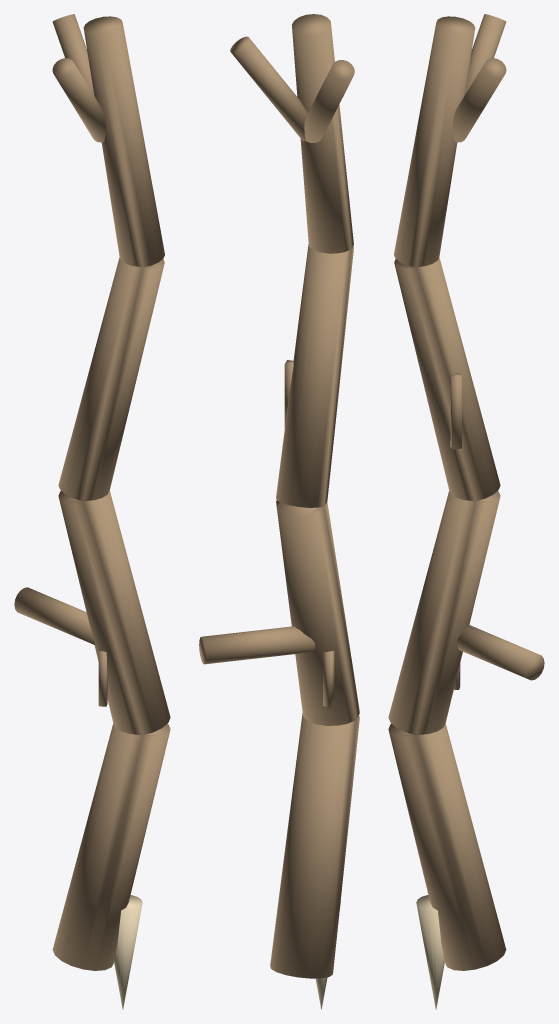
The model's file is stick_1.glb.
The picture shows the model from 3 angles, left to right: view 1: azimuth 90°, elevation 25°; view 2: azimuth 150°, elevation 25°; view 3: azimuth 270°, elevation 25°; orthographic projection.
Visible parts, largest first — view 1: Shaft, Side_Branch, Fork_B, Broken_Tip, Fork_A, Bark_Ridge_2; view 2: Shaft, Side_Branch, Fork_A, Fork_B, Bark_Ridge_2, Bark_Ridge_1; view 3: Shaft, Side_Branch, Fork_A, Broken_Tip, Fork_B, Bark_Ridge_1.
Part boxes in pixels (x1,y1,x2,y2): Shaft: (52,16,170,970); Side_Branch: (14,587,94,644); Fork_B: (52,58,106,142); Broken_Tip: (114,895,142,1009); Fork_A: (52,14,93,94); Bark_Ridge_2: (98,650,107,706); Shaft: (270,14,359,978); Side_Branch: (199,626,314,664); Fork_A: (230,36,307,141); Fork_B: (304,60,354,142); Bark_Ridge_2: (323,651,334,707); Bark_Ridge_1: (284,360,293,428); Shaft: (388,16,506,970); Side_Branch: (457,625,544,680); Fork_A: (452,58,506,142); Broken_Tip: (416,895,444,1009); Fork_B: (465,14,506,94); Bark_Ridge_1: (450,373,461,449).
Bounding box in the file's own units: 0.0802 × 0.5515 × 0.0791.
